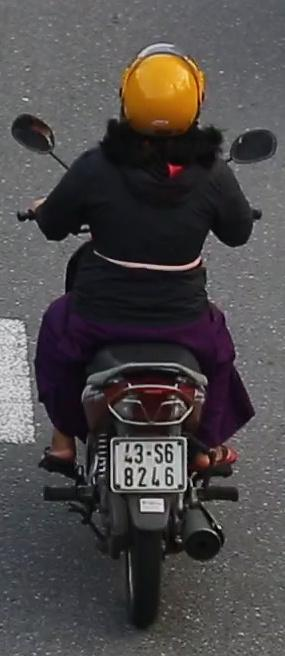LP: (108, 431, 190, 496)
helmet: (110, 48, 215, 177)
